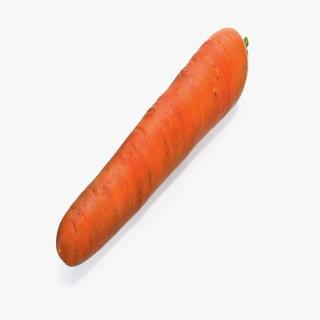carrot: (55, 24, 253, 268)
